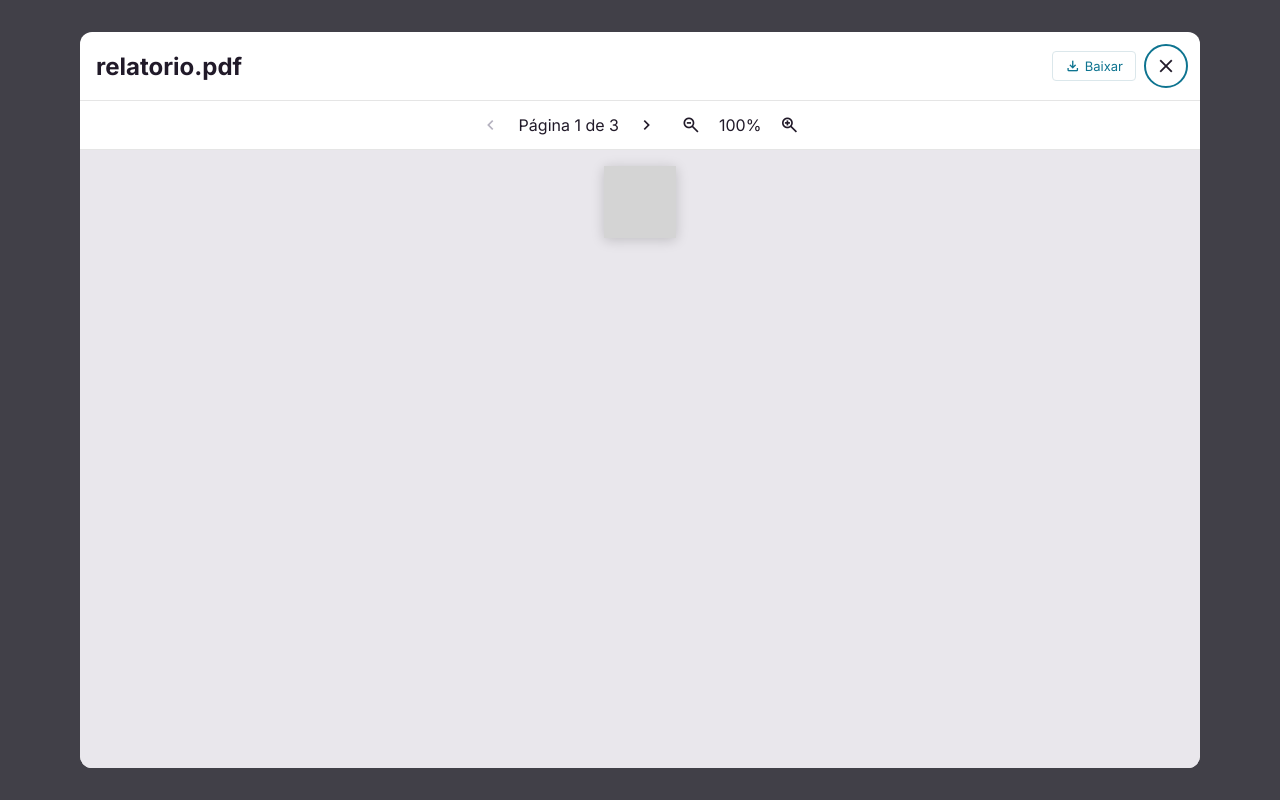
Test case: download › shows an inline error note when the download fails, without closing the viewer
Click the button with aria-label "Baixar relatorio.pdf": {"x": 1094, "y": 66} [1052, 51, 1136, 81]
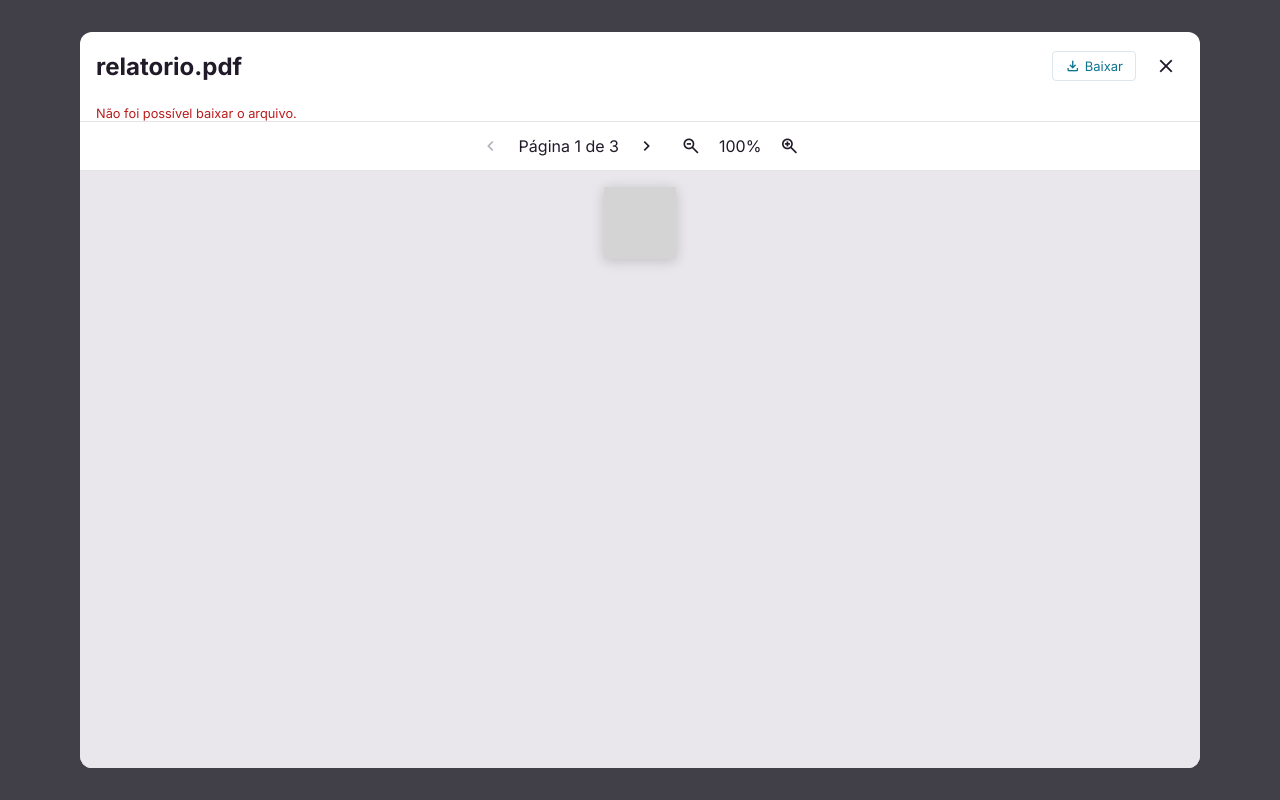
Expected: the message reads "Não foi possível baixar o arquivo.", [96, 106, 297, 121]
